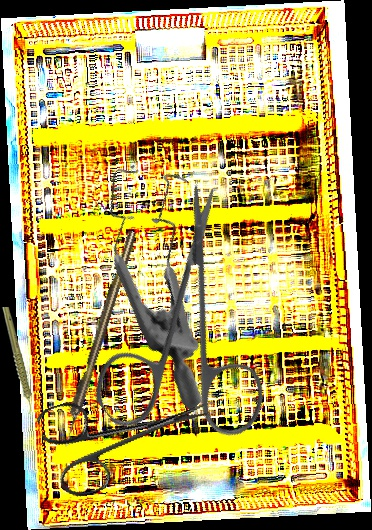Handpiece: (1, 307, 33, 414)
Hook Surgical: (58, 229, 139, 449)
Iris Scissors: (29, 178, 343, 493), (34, 361, 221, 503)
Speculum: (34, 140, 305, 412)
